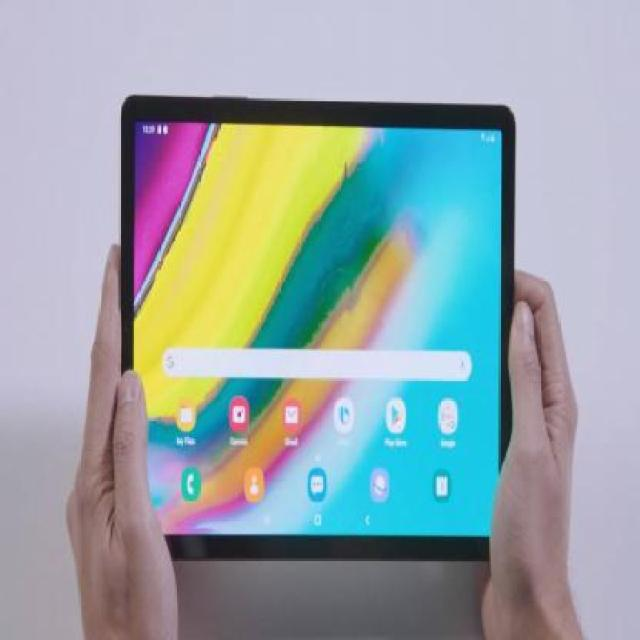tablet: (103, 90, 519, 573)
